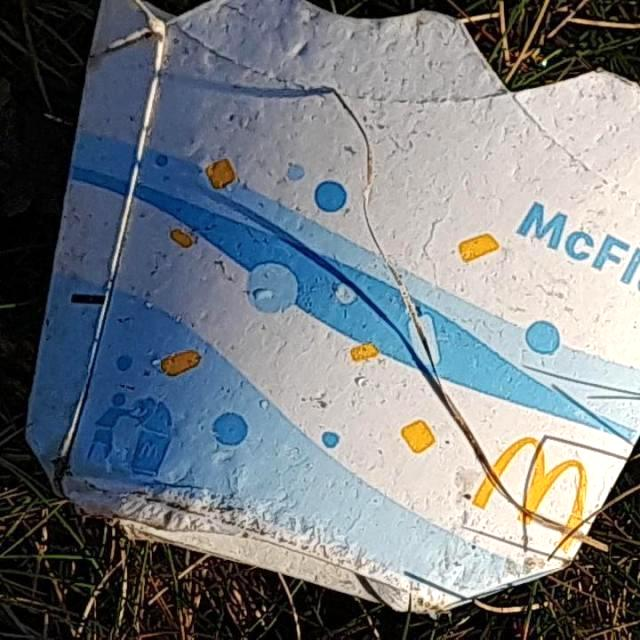Paper: (21, 0, 640, 618)
